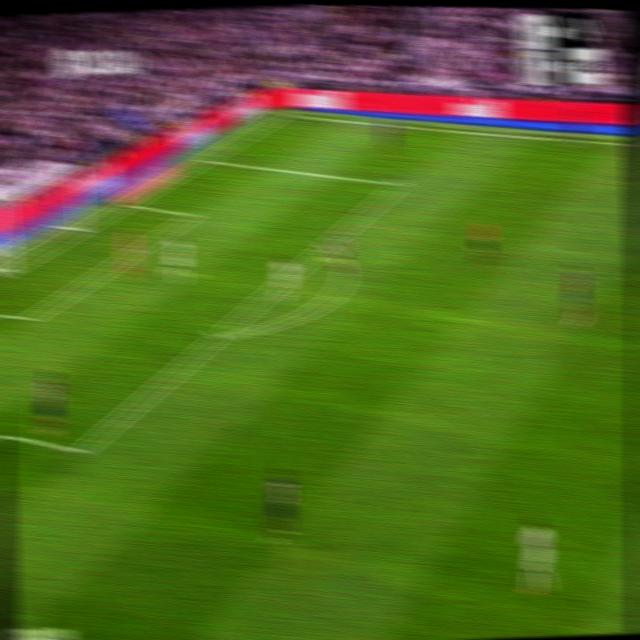bigarea_bottom_inner: (71, 438, 91, 464)
bigarea_top_inner: (389, 175, 407, 193)
bigarea_top_outter: (196, 150, 215, 165)
bottom_arc_area_intersection: (209, 324, 229, 345)
corner: (273, 107, 293, 120)
smallarea_top_inner: (182, 206, 201, 222)
top_arc_area_intersection: (317, 235, 337, 253)
